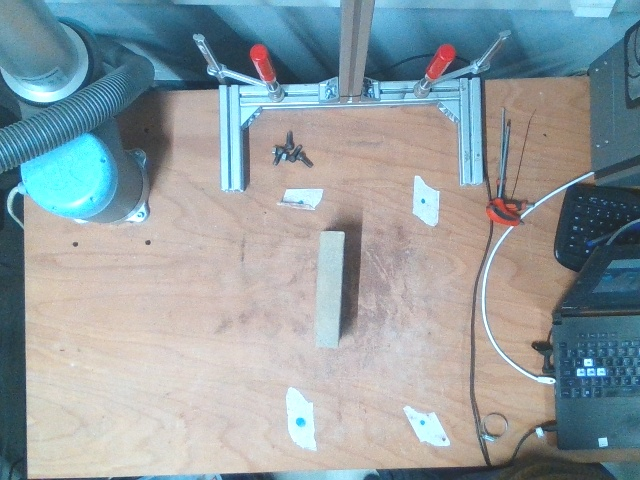brick-side: (316, 233, 341, 344)
